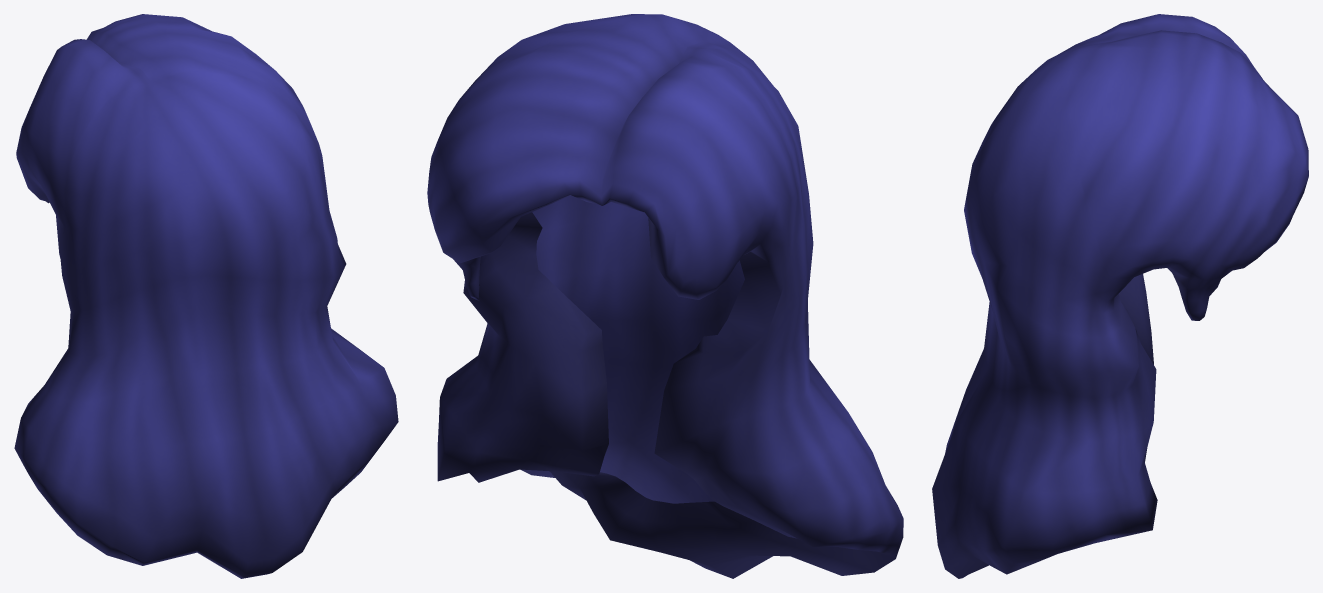
Rendered from Hair_Female_003_textured_blue.glb.
The picture shows the model from 3 angles, left to right: view 1: azimuth 30°, elevation 25°; view 2: azimuth 150°, elevation 25°; view 3: azimuth 270°, elevation 25°; orthographic projection. The views are drawn at different scales.
Parts seen in each view (by area): view 1: Hair_Female_003; view 2: Hair_Female_003; view 3: Hair_Female_003.
Part boxes in pixels (x1,y1,x2,y2): Hair_Female_003: [14, 14, 398, 578]; Hair_Female_003: [427, 14, 903, 578]; Hair_Female_003: [932, 14, 1308, 578].
Bounding box in the file's own units: 0.2864 × 0.3854 × 0.2514.
Materials: 1 (1 with a texture image).
